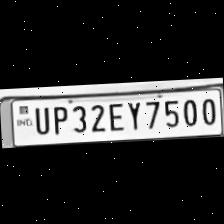0: (178, 94, 198, 125), (198, 94, 218, 124)
2: (85, 100, 105, 132)
3: (67, 100, 87, 132)
5: (158, 95, 180, 127)
7: (140, 96, 160, 130)
E: (104, 99, 124, 131)
P: (46, 102, 68, 134)
U: (29, 102, 49, 134)
Y: (123, 98, 143, 130)
